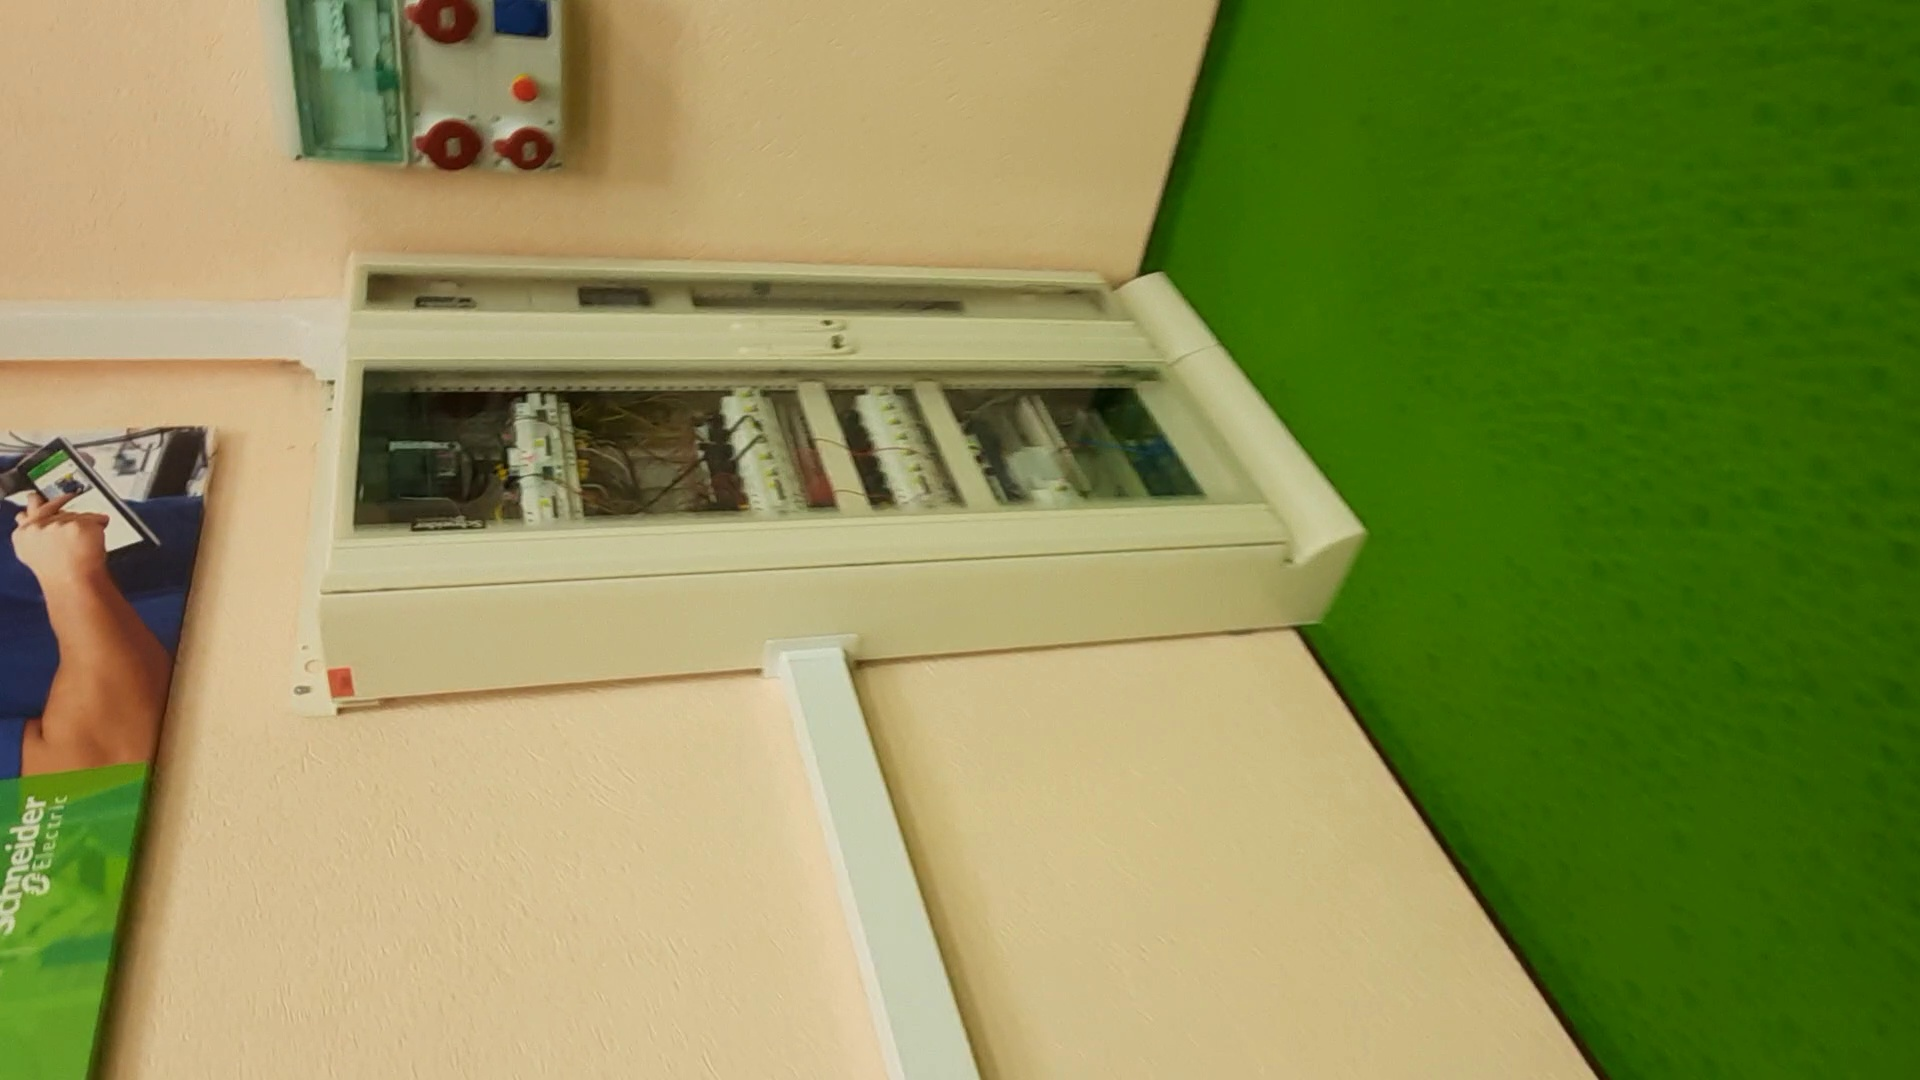stand1: (305, 243, 1365, 725)
